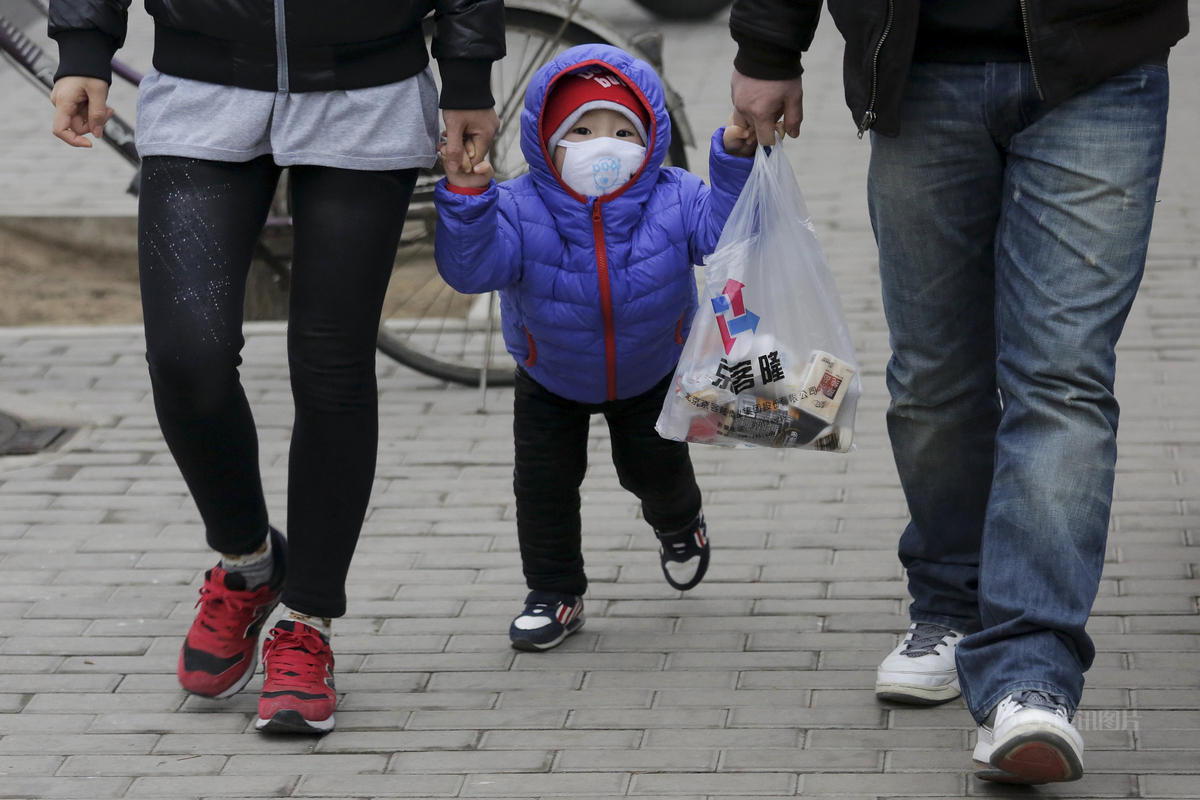face_mask: (555, 90, 646, 199)
